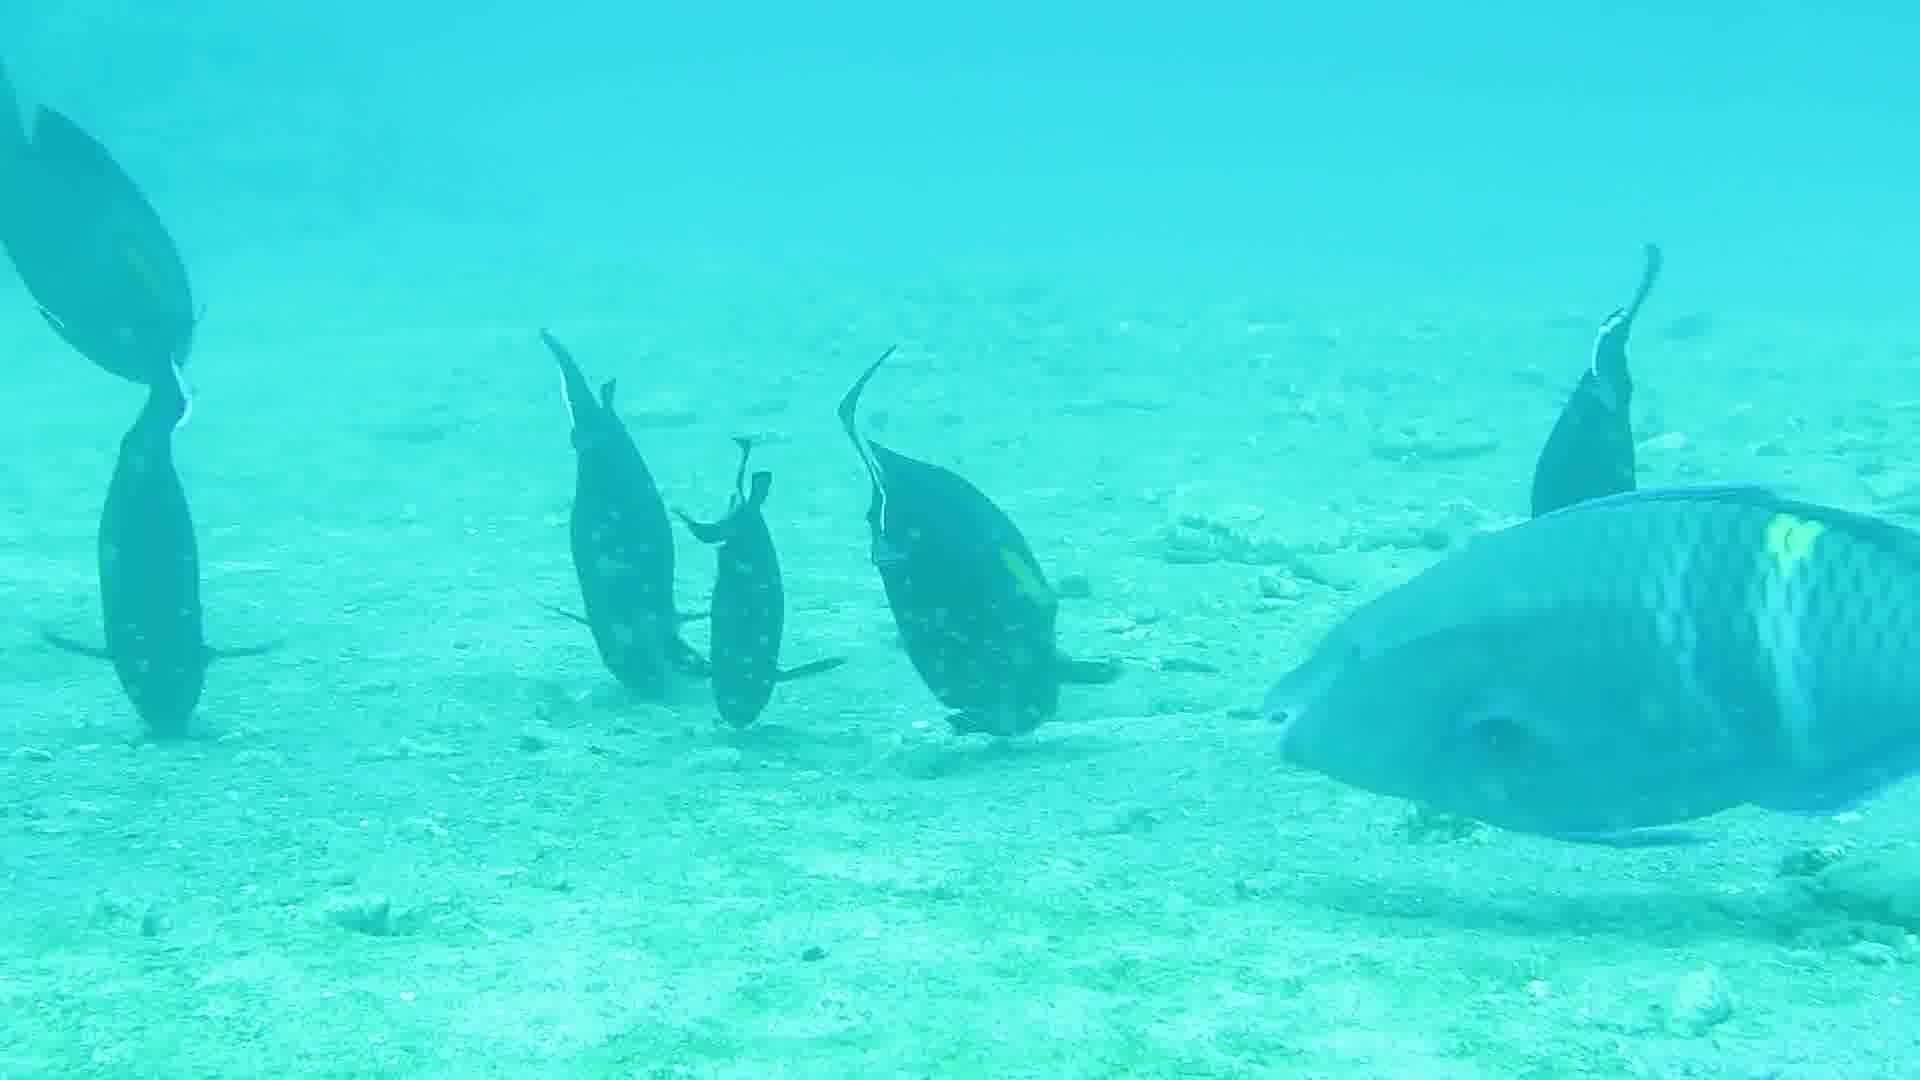Acanthurus olivaceus: (1237, 454, 1920, 843), (825, 360, 1117, 775), (1, 1, 208, 400), (90, 353, 214, 750), (700, 377, 823, 774), (556, 351, 679, 748)
